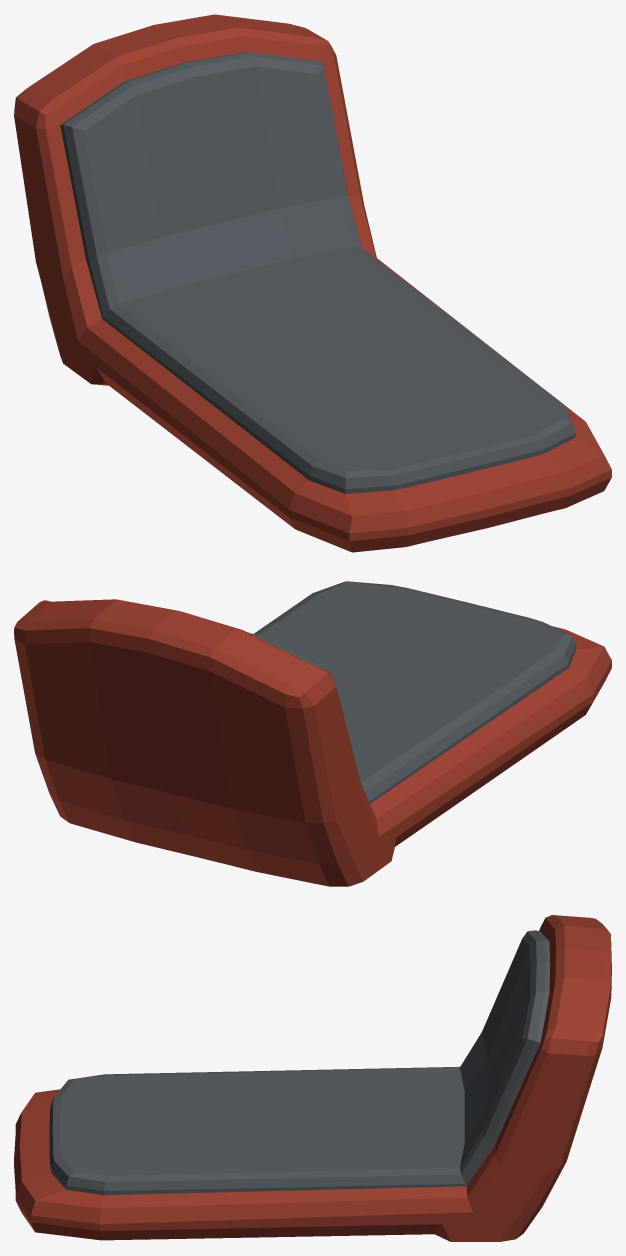
The model's file is Personal_Vehicle_03_Seat_Red.fbx.
3 views of the same model, one above another, from view 1: azimuth 30°, elevation 25°; view 2: azimuth 150°, elevation 25°; view 3: azimuth 270°, elevation 25° (orthographic). The views are drawn at different scales.
Parts seen in each view (by area): view 1: Personal_Vehicle_03_Seat_Red; view 2: Personal_Vehicle_03_Seat_Red; view 3: Personal_Vehicle_03_Seat_Red.
Boxes of the visible parts, x1,y1,x2,y2 form: Personal_Vehicle_03_Seat_Red: (14,14,611,552); Personal_Vehicle_03_Seat_Red: (14,581,611,886); Personal_Vehicle_03_Seat_Red: (14,915,611,1241).
Size of the model in its own units: 43.57 by 36.77 by 84.59.
Materials: 1 (1 with a texture image).
